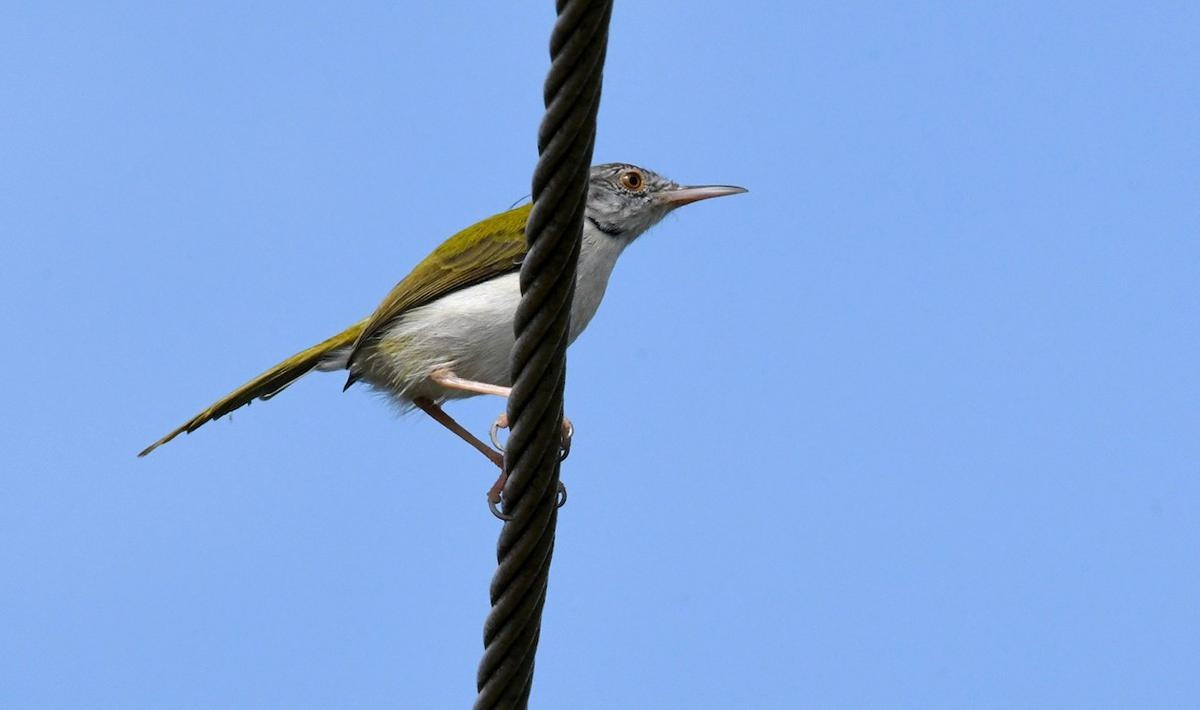tailorbird: (90, 130, 754, 555)
